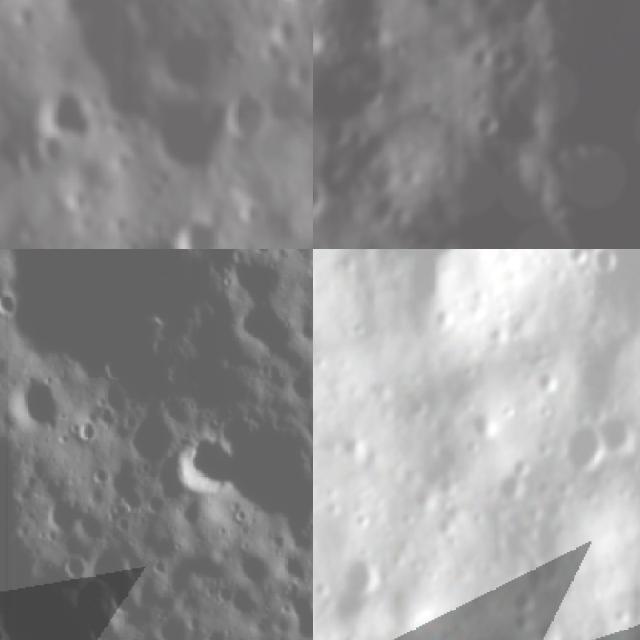crater: (7, 249, 218, 377), (217, 413, 313, 536), (138, 85, 236, 181), (151, 21, 225, 99), (30, 84, 99, 150), (2, 372, 68, 440), (171, 427, 232, 500), (235, 297, 301, 355), (226, 249, 292, 302), (556, 414, 604, 478), (219, 89, 270, 149), (88, 541, 140, 596), (476, 34, 524, 82), (341, 545, 384, 593), (597, 404, 637, 454), (165, 219, 231, 249), (42, 490, 84, 536), (263, 16, 302, 59), (313, 155, 333, 237), (485, 473, 523, 507), (465, 106, 498, 139), (74, 413, 103, 448), (588, 249, 622, 276), (62, 543, 84, 583), (0, 283, 21, 320), (507, 582, 533, 611), (504, 607, 531, 633), (509, 454, 537, 479), (553, 249, 586, 269), (633, 448, 640, 480)
